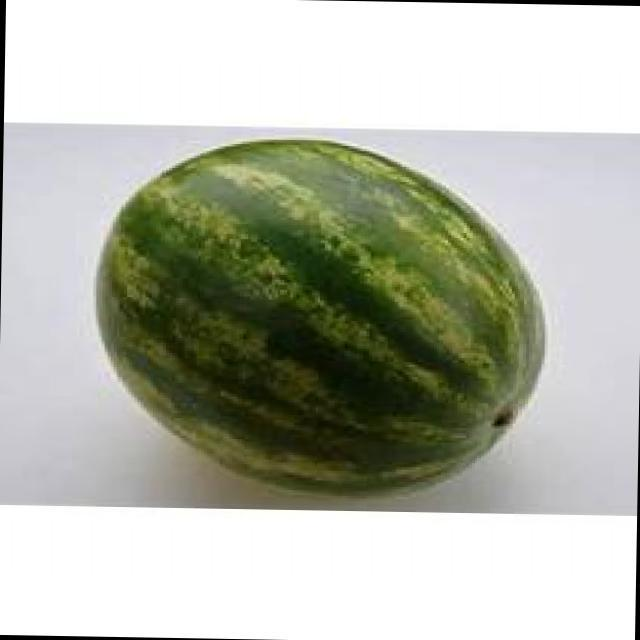watermelon: (96, 138, 545, 502)
